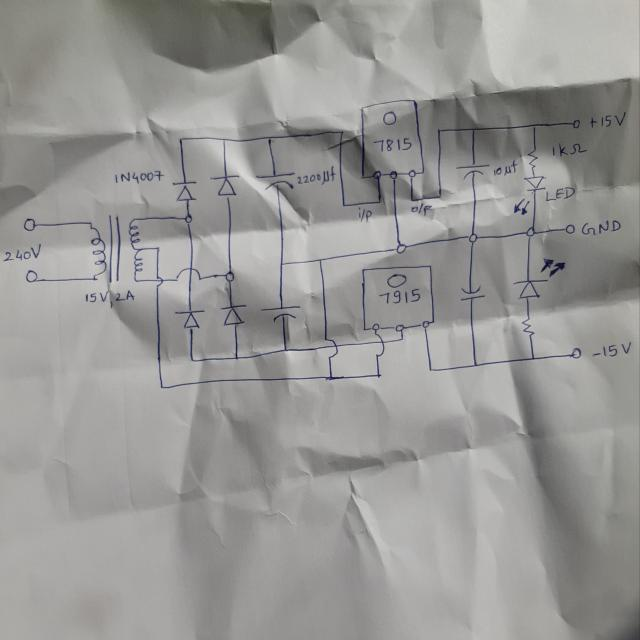capacitor: (253, 169, 298, 192), (260, 304, 302, 324), (453, 160, 490, 182), (459, 285, 486, 303)
crossover: (174, 266, 203, 286), (322, 336, 340, 356), (373, 334, 384, 358), (153, 274, 165, 288)
diode: (512, 256, 568, 300), (511, 174, 546, 219), (208, 170, 242, 200), (174, 307, 204, 332), (219, 302, 247, 328), (171, 178, 198, 204)
junction: (466, 230, 480, 246), (394, 241, 408, 255), (223, 269, 236, 284), (525, 226, 536, 238), (183, 212, 193, 225), (281, 345, 290, 355), (232, 353, 241, 362), (375, 197, 384, 206), (326, 373, 334, 382), (158, 383, 166, 391), (177, 135, 185, 143), (529, 354, 537, 362), (188, 356, 196, 364), (264, 135, 272, 143), (316, 256, 324, 264), (278, 260, 286, 268), (435, 127, 443, 135), (472, 361, 479, 369), (530, 122, 537, 130), (338, 128, 345, 136), (375, 372, 382, 379), (427, 366, 434, 373), (220, 136, 227, 143), (437, 192, 443, 200), (409, 196, 415, 204), (155, 245, 161, 252), (341, 202, 347, 209), (470, 126, 476, 133), (399, 336, 405, 343)
resistor: (520, 314, 534, 341), (526, 146, 538, 170)
terminal: (24, 268, 39, 286), (22, 216, 38, 232), (569, 346, 583, 359), (564, 223, 576, 235), (571, 118, 582, 130)
text: (84, 288, 136, 309), (294, 166, 336, 187), (113, 169, 166, 185), (2, 244, 42, 264), (591, 340, 633, 359), (579, 218, 622, 236), (377, 288, 422, 305), (548, 141, 588, 159), (370, 137, 414, 153), (588, 112, 627, 130), (544, 186, 578, 203), (492, 158, 518, 178), (410, 202, 433, 216), (356, 207, 374, 224)
transformer: (84, 214, 145, 284)
